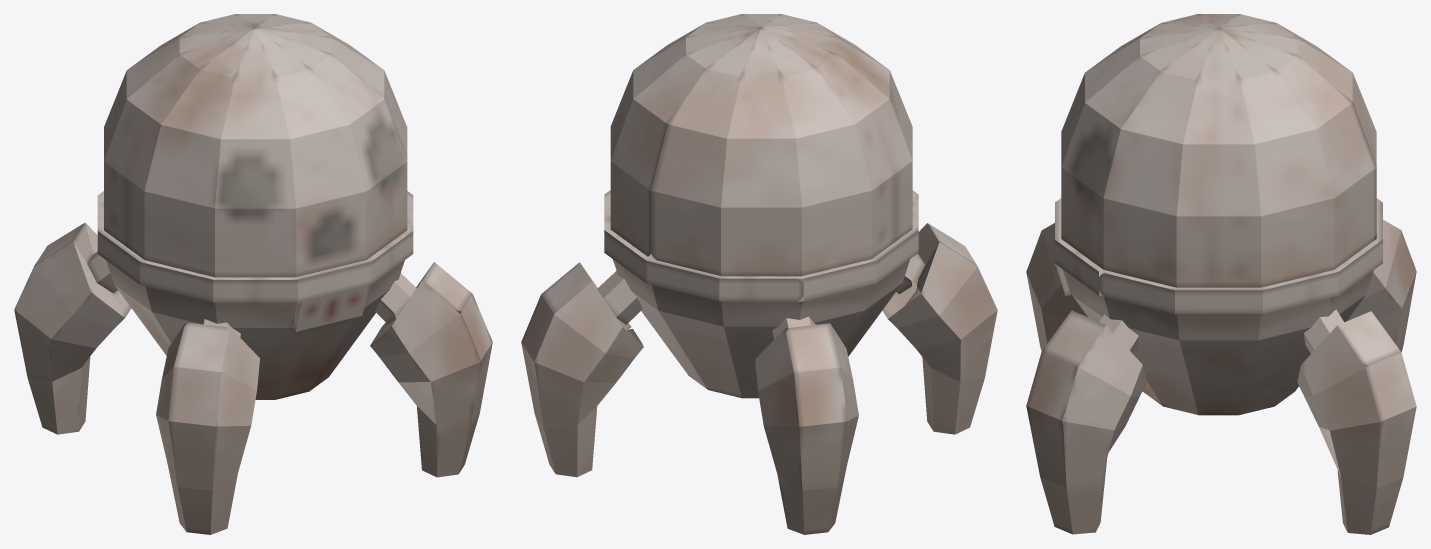
Rendered from 8UG_Clean.fbx.
The picture shows the model from 3 angles, left to right: view 1: azimuth 30°, elevation 25°; view 2: azimuth 150°, elevation 25°; view 3: azimuth 270°, elevation 25°; orthographic projection. The views are drawn at different scales.
Parts seen in each view (by area): view 1: Head, Body, Leg (FR), Leg (FR)_1, Leg (BL)_1; view 2: Head, Body, Leg (BL)_1, Leg (BL), Leg (FR); view 3: Head, Body, Leg (BL), Leg (FR)_1, Leg (BL)_1, Leg (FR).
Part boxes in pixels (x1,y1,x2,y2): Head: [104, 14, 407, 277]; Body: [97, 191, 413, 399]; Leg (FR): [156, 319, 259, 534]; Leg (FR)_1: [370, 262, 492, 477]; Leg (BL)_1: [14, 222, 131, 434]; Head: [610, 14, 912, 276]; Body: [604, 190, 918, 398]; Leg (BL)_1: [755, 296, 858, 534]; Leg (BL): [521, 262, 643, 477]; Leg (FR): [882, 223, 997, 434]; Head: [1061, 14, 1376, 287]; Body: [1055, 198, 1382, 415]; Leg (BL): [1297, 309, 1416, 534]; Leg (FR)_1: [1026, 310, 1146, 534]; Leg (BL)_1: [1347, 219, 1416, 351]; Leg (FR): [1026, 223, 1087, 351].
Bounding box in the file's own units: 93.4 × 114 × 92.86.
1 material, 1 textured.
